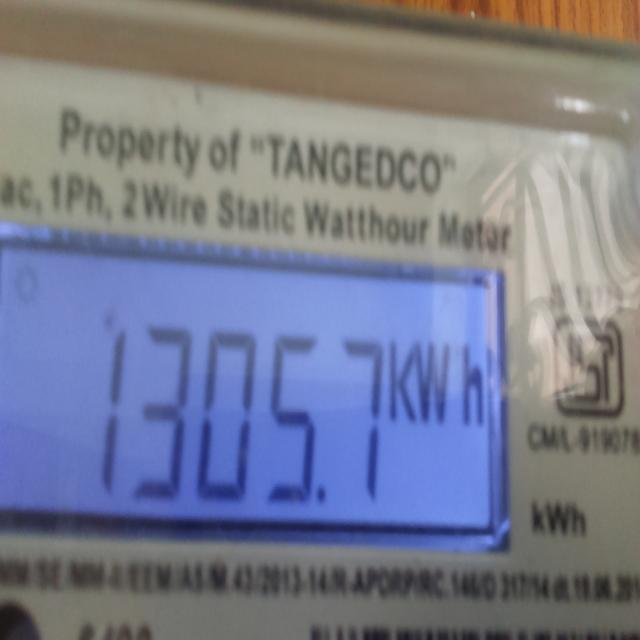.: (312, 477, 329, 509)
0: (196, 326, 261, 507)
1: (95, 328, 132, 501)
3: (136, 314, 188, 502)
5: (265, 322, 318, 510)
7: (339, 330, 389, 504)
